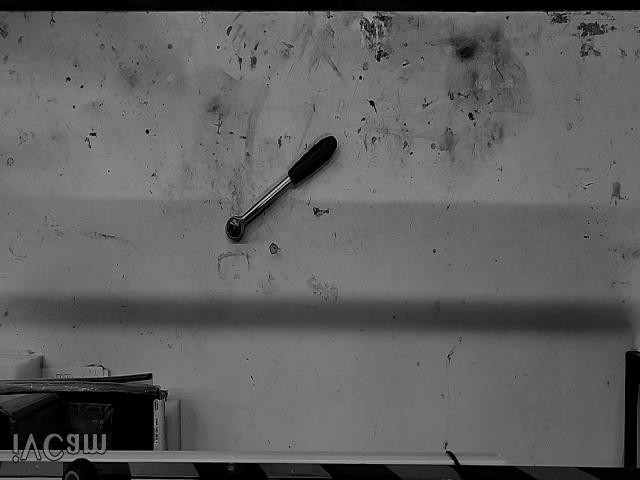Ratchet: (225, 138, 338, 243)
